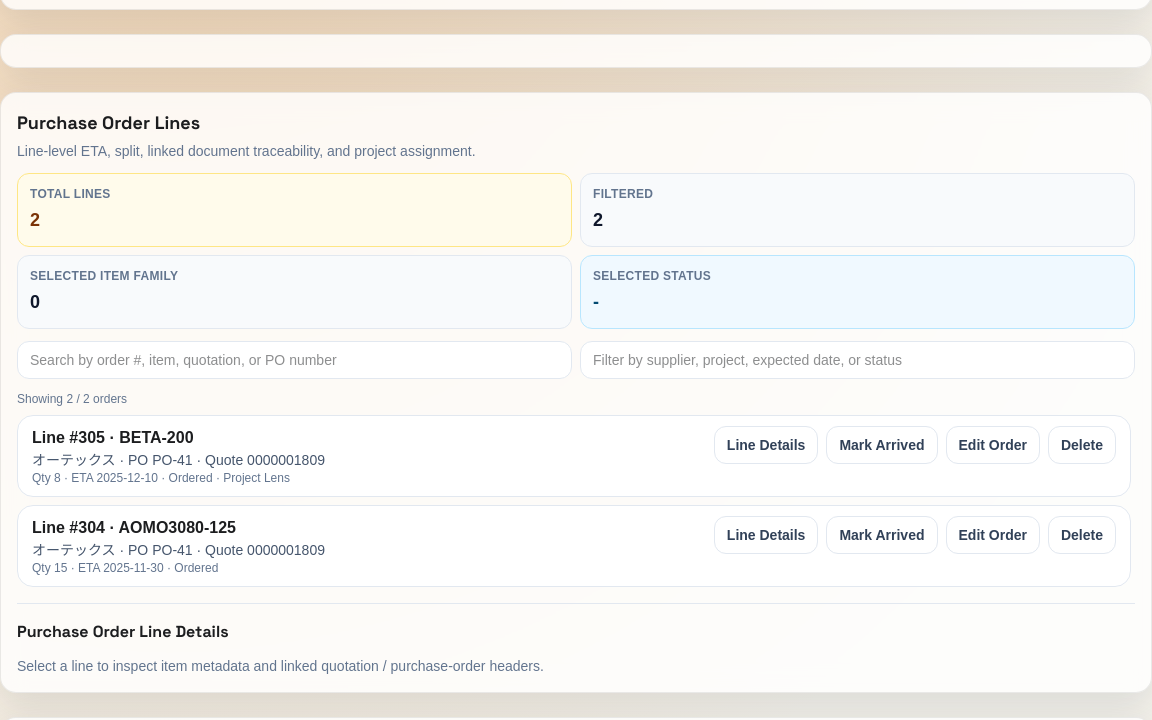
Test: OrdersPage › filters the expanded order list with search inputs
(page scrolled)
Type "BETA" into the field with placeholder "Search by order #, item, quotation, or PO number".
click(294, 360); type("BETA")  # box [17,341,572,379]
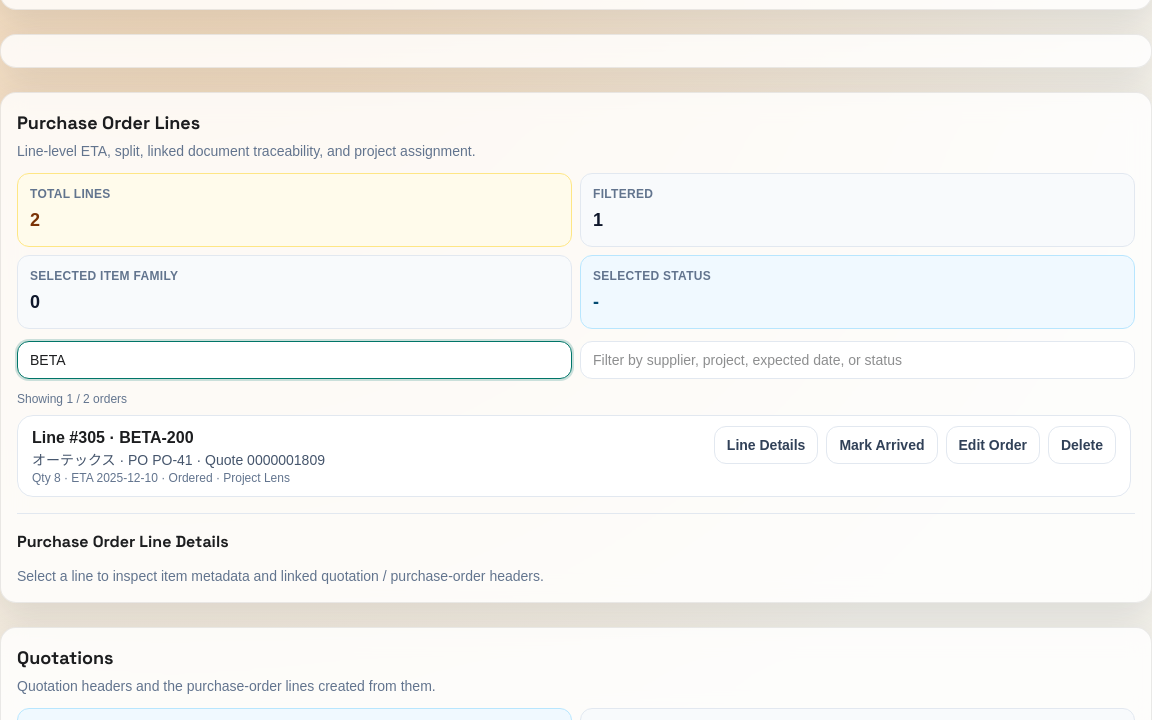
Expected: the text "Line #305 · BETA-200" is shown, [32,429,194,446]
Expected: the text "Showing 1 / 2 orders" is shown, [17,392,127,406]
Expected: the text "Line #304 · AOMO3080-125" is gone
